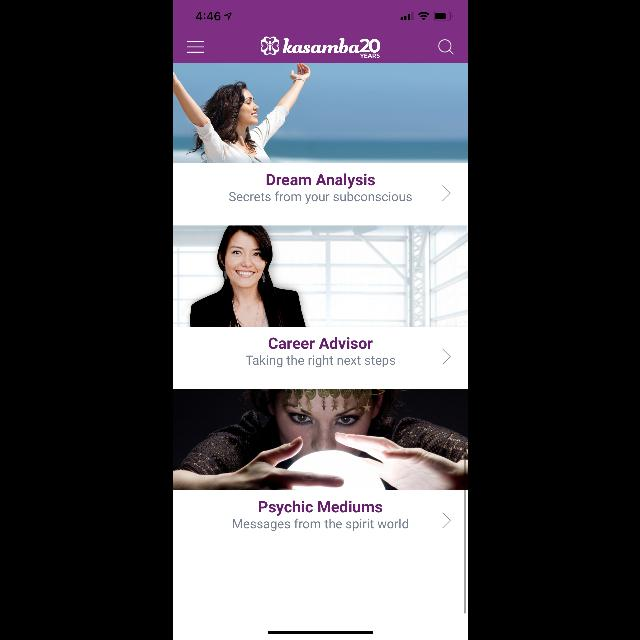icon: (438, 40, 452, 54), (187, 41, 203, 53), (442, 512, 450, 528), (442, 350, 450, 364), (442, 186, 450, 200)
image: (172, 390, 468, 490), (172, 226, 468, 326), (172, 63, 468, 163), (260, 36, 380, 58)
text: (228, 192, 412, 204), (232, 519, 408, 531), (258, 500, 382, 516), (245, 355, 395, 367), (266, 174, 374, 188), (268, 337, 372, 349)
uppertaskbar: (195, 12, 452, 20)
